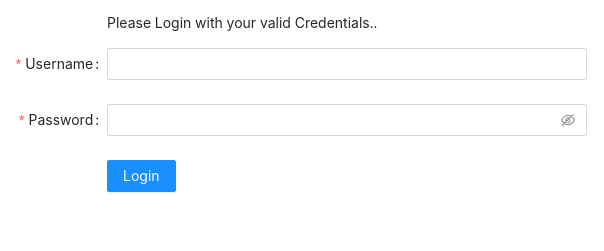
Test: <Login /> › renders <Login /> components with button click - Error
This screenshot has width=604, height=251.
Click the button "Login" at [141, 176], box x1=107 y1=160 x2=176 y2=192
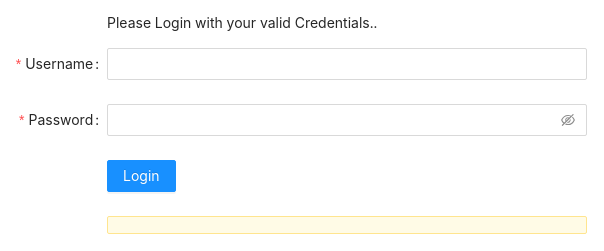
Expected: the number of messages is 1, x1=107 y1=216 x2=587 y2=234
